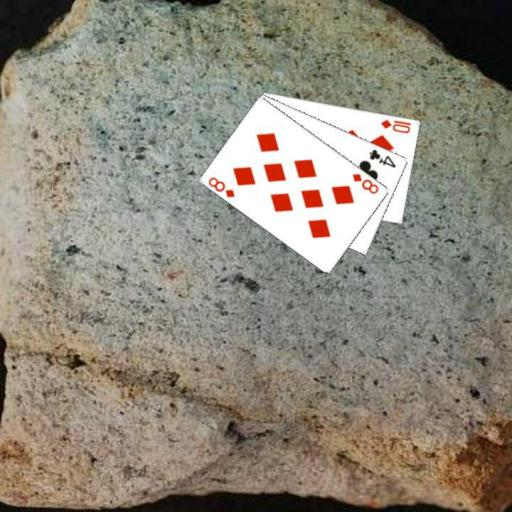10D: (379, 117, 413, 135)
4C: (366, 146, 398, 169)
8D: (349, 170, 381, 196), (205, 174, 237, 199)
